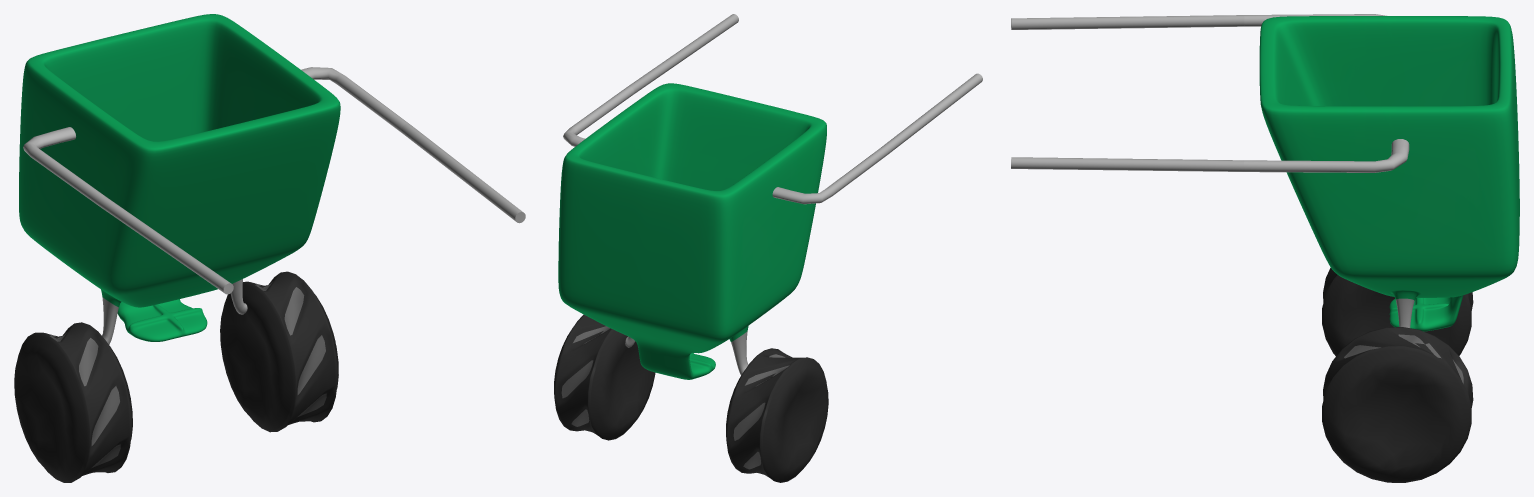
File: SeedSpreaderFinal.fbx
3 views of the same model, side by side, from view 1: azimuth 30°, elevation 25°; view 2: azimuth 150°, elevation 25°; view 3: azimuth 270°, elevation 25° (orthographic). The views are drawn at different scales.
Parts seen in each view (by area): view 1: Spreader Body, Left Wheel, Right Wheel, Spreader Handles; view 2: Spreader Body, Left Wheel, Right Wheel, Spreader Handles; view 3: Spreader Body, Right Wheel, Spreader Handles, Left Wheel.
Part boxes in pixels (left/top/right/bottom): Spreader Body: left=19, top=14, right=340, bottom=344; Left Wheel: left=14, top=322, right=132, bottom=482; Right Wheel: left=220, top=271, right=338, bottom=432; Spreader Handles: left=23, top=67, right=525, bottom=294; Spreader Body: left=558, top=83, right=826, bottom=379; Left Wheel: left=726, top=348, right=828, bottom=482; Right Wheel: left=554, top=314, right=655, bottom=440; Spreader Handles: left=563, top=14, right=982, bottom=204; Spreader Body: left=1259, top=16, right=1519, bottom=331; Right Wheel: left=1322, top=327, right=1473, bottom=482; Spreader Handles: left=1011, top=14, right=1409, bottom=172; Left Wheel: left=1322, top=267, right=1473, bottom=355.
Size of what is drawn, in the model's own units: 1.36 by 1.52 by 1.93.
